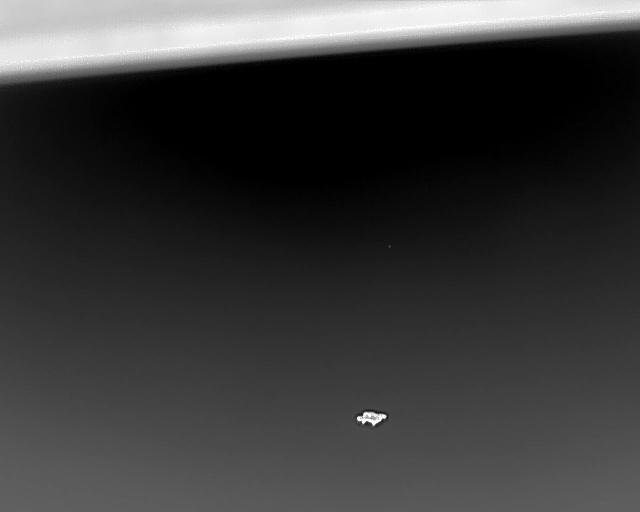fpv-drone: (355, 410, 388, 427)
